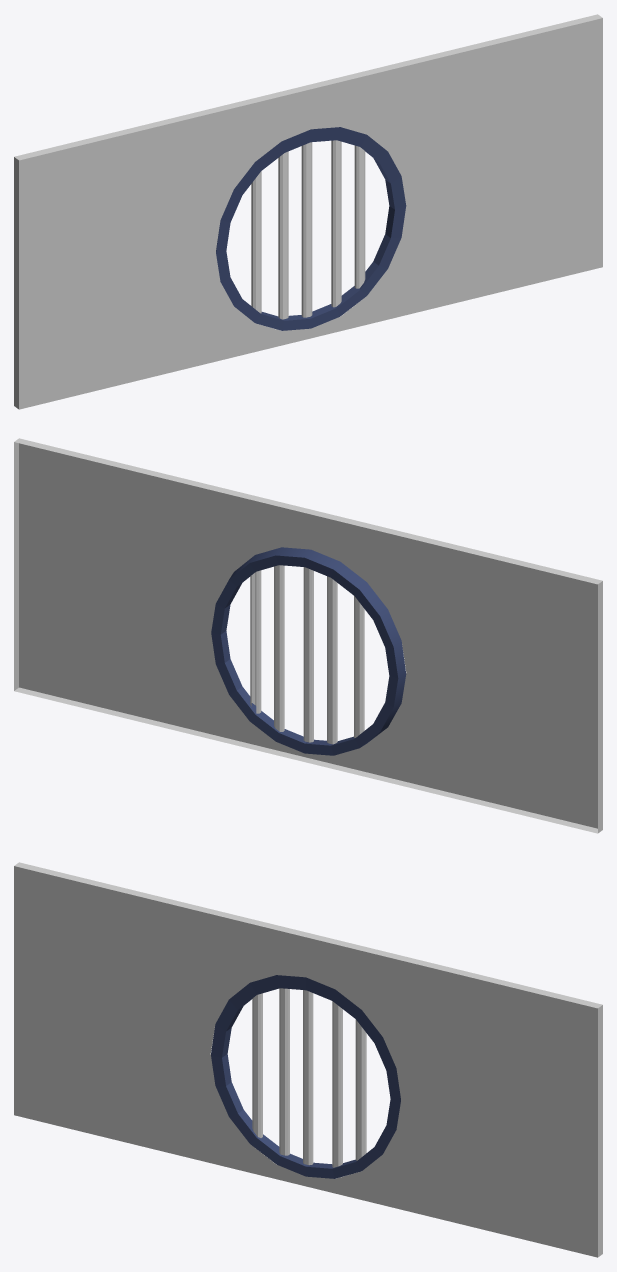
File: Sewer_With_Window 1.fbx
3 views of the same model, one above another, from view 1: azimuth 30°, elevation 25°; view 2: azimuth 150°, elevation 25°; view 3: azimuth 330°, elevation 25° (orthographic).
Parts seen in each view (by area): view 1: Sewer_Wall_With_Window; view 2: Sewer_Wall_With_Window; view 3: Sewer_Wall_With_Window.
Boxes of the visible parts, x1=… form: Sewer_Wall_With_Window: x1=14, y1=14, x2=602, y2=409; Sewer_Wall_With_Window: x1=14, y1=438, x2=602, y2=833; Sewer_Wall_With_Window: x1=14, y1=862, x2=602, y2=1257.
Size of the model in its own units: 2000 by 816 by 37.53.
